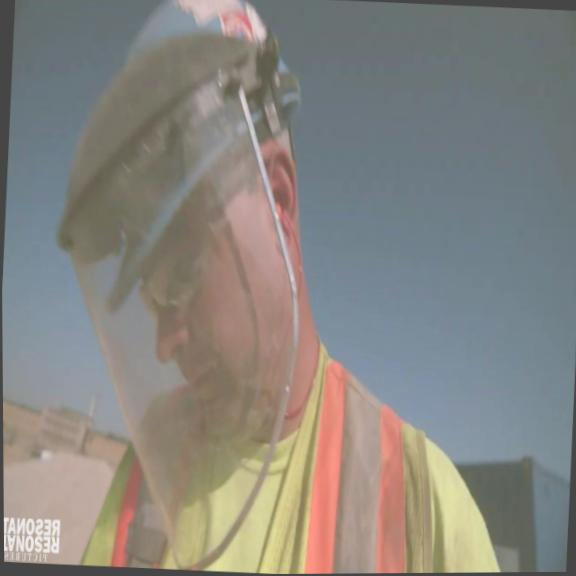safety_vest: (72, 322, 515, 575)
